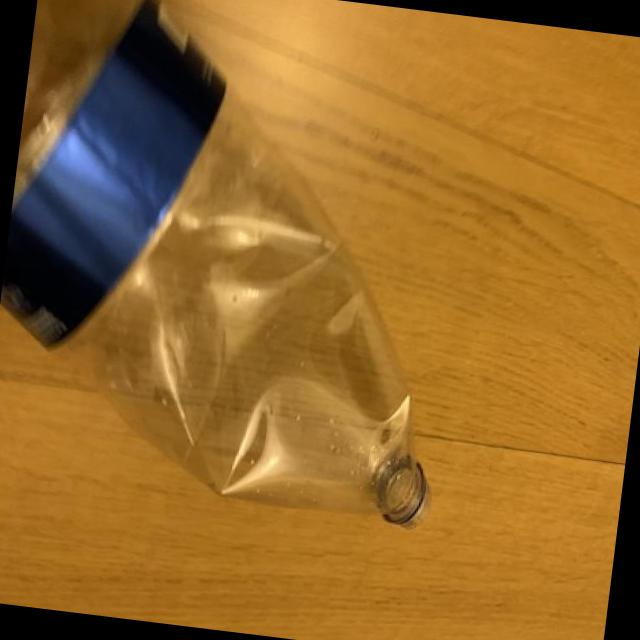plastic_bottle: (0, 0, 489, 532)
